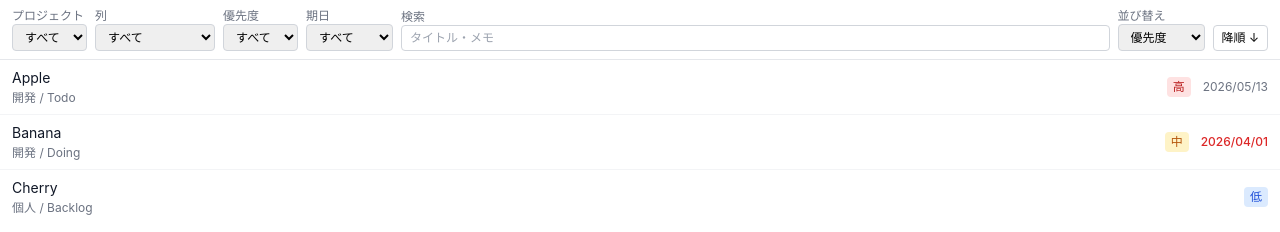
AllTasksView › 優先度フィルタで絞り込み
The width and height of the screenshot is (1280, 232).
Select "高" in the dropdown labelled "優先度" at (260, 38), box [223,24,298,51]
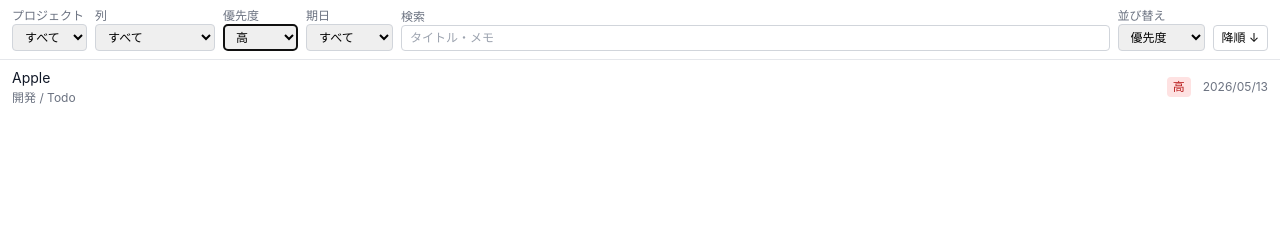
Expected: the text "Apple" is shown, [12,69,50,86]
Expected: the text "Banana" is gone
